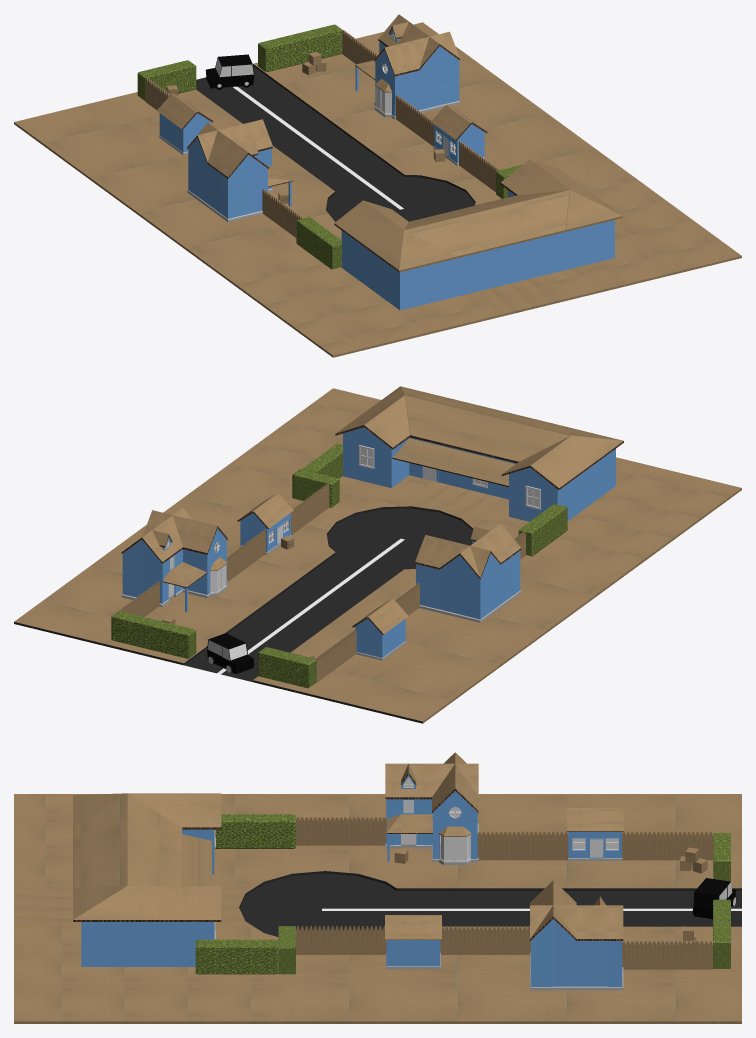
The model's file is env.fbx.
The picture shows the model from 3 angles, top to bottom: view 1: azimuth 30°, elevation 25°; view 2: azimuth 150°, elevation 25°; view 3: azimuth 270°, elevation 25°; orthographic projection. The views are drawn at different scales.
Visible parts, largest first — view 1: Plane, Plane.002, Plane.001, Cube.001, Cube.002, Cube.012, Cube.004, Cube.026, Cube.003, Cube.013, Cube.023, Cube (+3 smaller); view 2: Plane, Plane.002, Plane.001, Cube.001, Cube.002, Cube.012, Cube.026, Cube.004, Cube.013, Cube.003, Cube.023, Cube.024 (+5 smaller); view 3: Plane, Plane.002, Plane.001, Cube.001, Cube.002, Cube.004, Cube.026, Cube.022, Cube.003, Cube.007, Cube.009, Cube.006 (+7 smaller).
Part boxes in pixels (x1,y1,x2,y2): Plane: (14, 22, 741, 357); Plane.002: (334, 160, 622, 310); Plane.001: (196, 66, 475, 221); Cube.001: (187, 119, 292, 222); Cube.002: (355, 14, 459, 119); Cube.012: (258, 24, 342, 71); Cube.004: (431, 104, 487, 165); Cube.026: (157, 93, 213, 155); Cube.003: (296, 217, 341, 269); Cube.013: (137, 60, 196, 101); Cube.023: (205, 54, 254, 89); Cube: (395, 94, 433, 146); Plane: (14, 388, 741, 723); Plane.002: (335, 386, 623, 521); Plane.001: (184, 508, 472, 681); Cube.001: (415, 523, 521, 622); Cube.002: (121, 508, 227, 612); Cube.012: (111, 611, 196, 658); Cube.026: (352, 599, 408, 660); Cube.004: (237, 493, 293, 554); Cube.013: (258, 647, 316, 688); Cube.003: (518, 504, 567, 556); Cube.023: (207, 633, 253, 673); Cube.024: (292, 469, 339, 507); Plane: (14, 794, 741, 1023); Plane.002: (73, 793, 221, 966); Plane.001: (239, 873, 741, 936); Cube.001: (385, 752, 478, 864); Cube.002: (530, 880, 623, 990); Cube.004: (385, 915, 441, 969); Cube.026: (567, 807, 623, 860); Cube.022: (195, 939, 277, 974); Cube.003: (214, 814, 295, 848); Cube.007: (477, 831, 568, 860); Cube.009: (296, 817, 386, 845); Cube.006: (622, 941, 712, 969).
Size of the model in its own units: 6014 by 941 by 8132.
